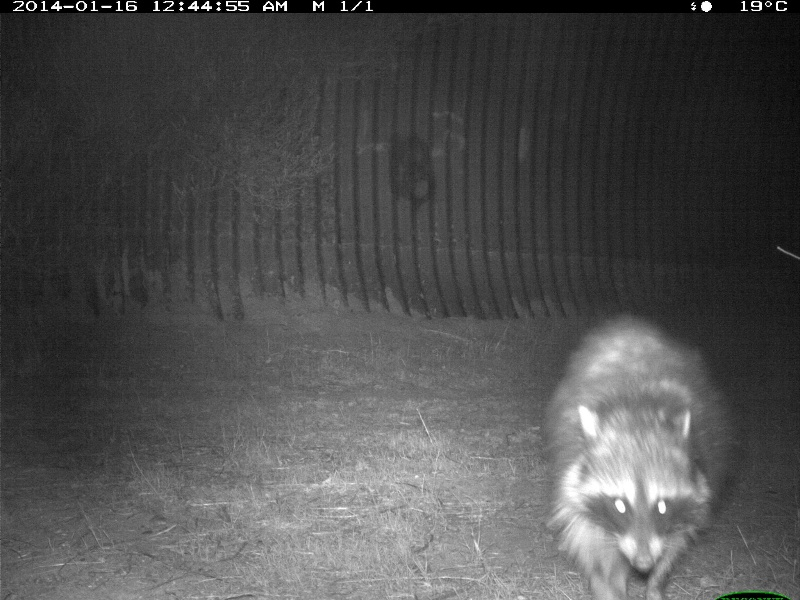raccoon: (540, 311, 726, 598)
